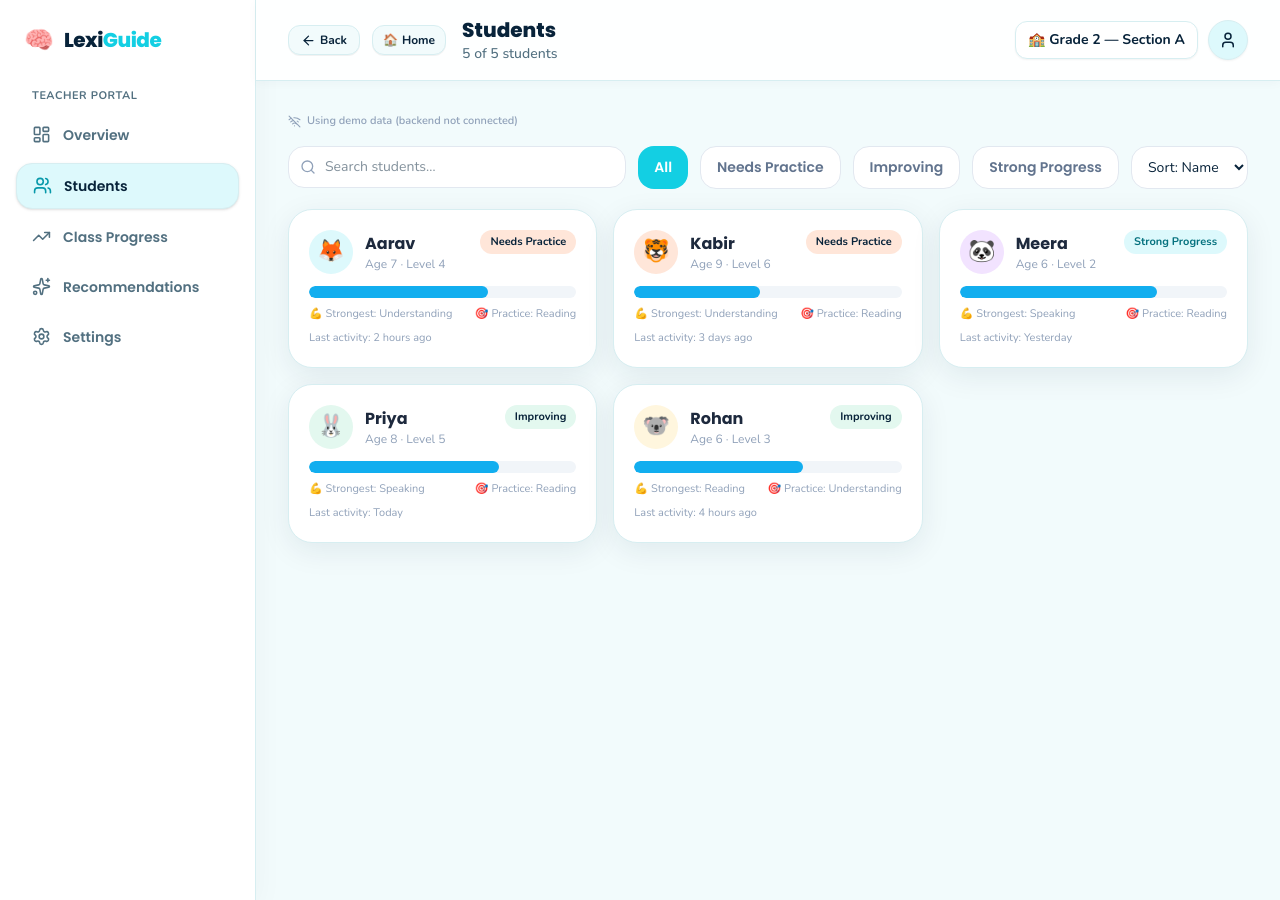
Phase 4: Teacher Experience › 4. Student search filters the list
Expected: the text "Aarav" is shown, x1=365 y1=232 x2=415 y2=254
Type "Aarav" into the field with placeholder "Search students…" at (457, 166), box x1=288 y1=146 x2=626 y2=188
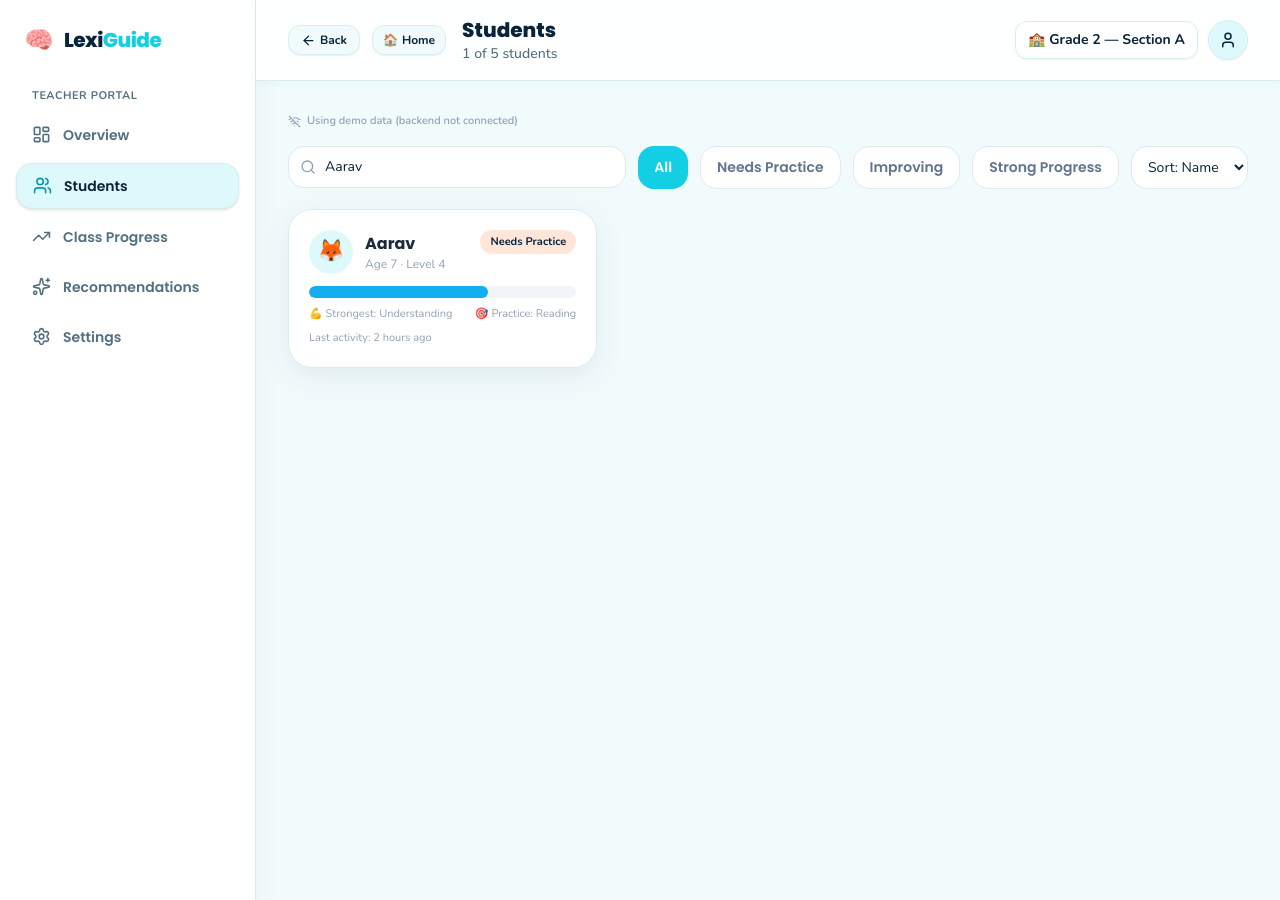
Expected: the text "Aarav" is shown, x1=365 y1=232 x2=415 y2=254
Now the button "Meera" is gone
